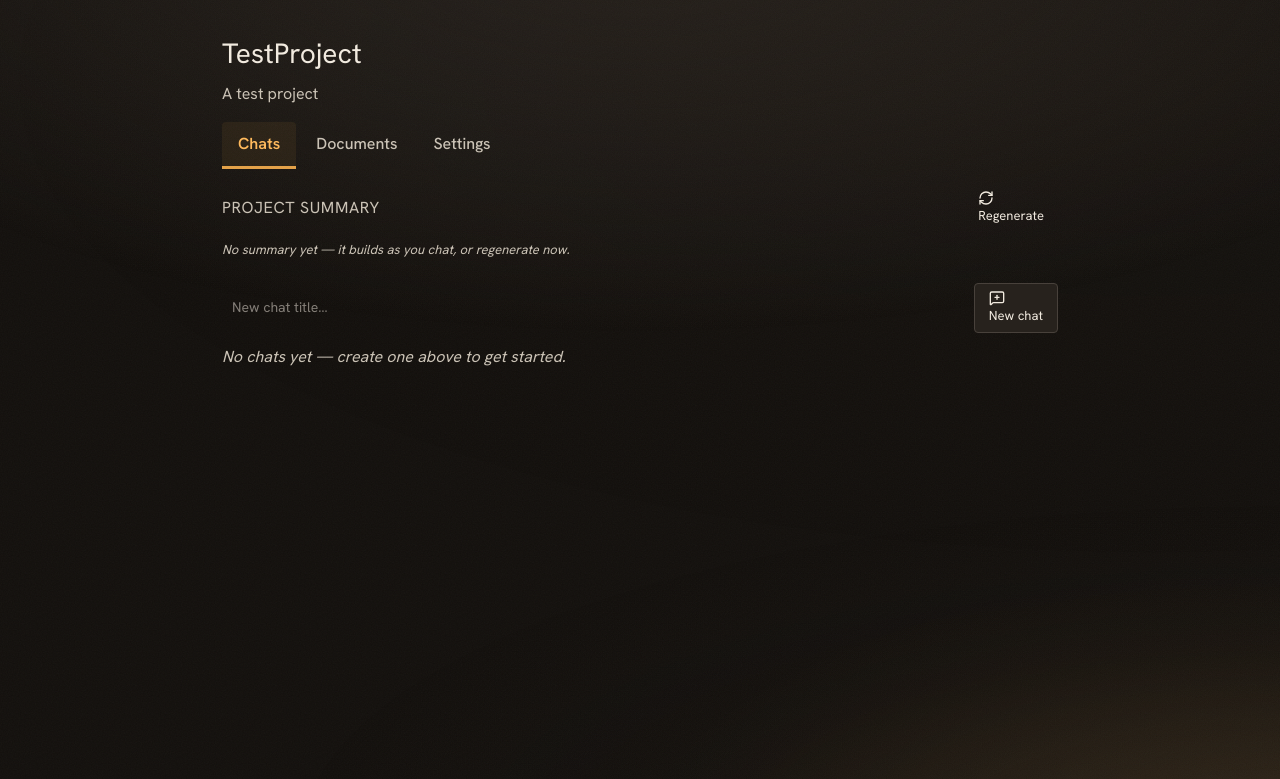
Scenario: Project page › selecting a preset copies its content into the instructions field
The width and height of the screenshot is (1280, 779).
Click the tab with test id "project-tab-settings" at point(462, 146), box x1=418 y1=122 x2=507 y2=169
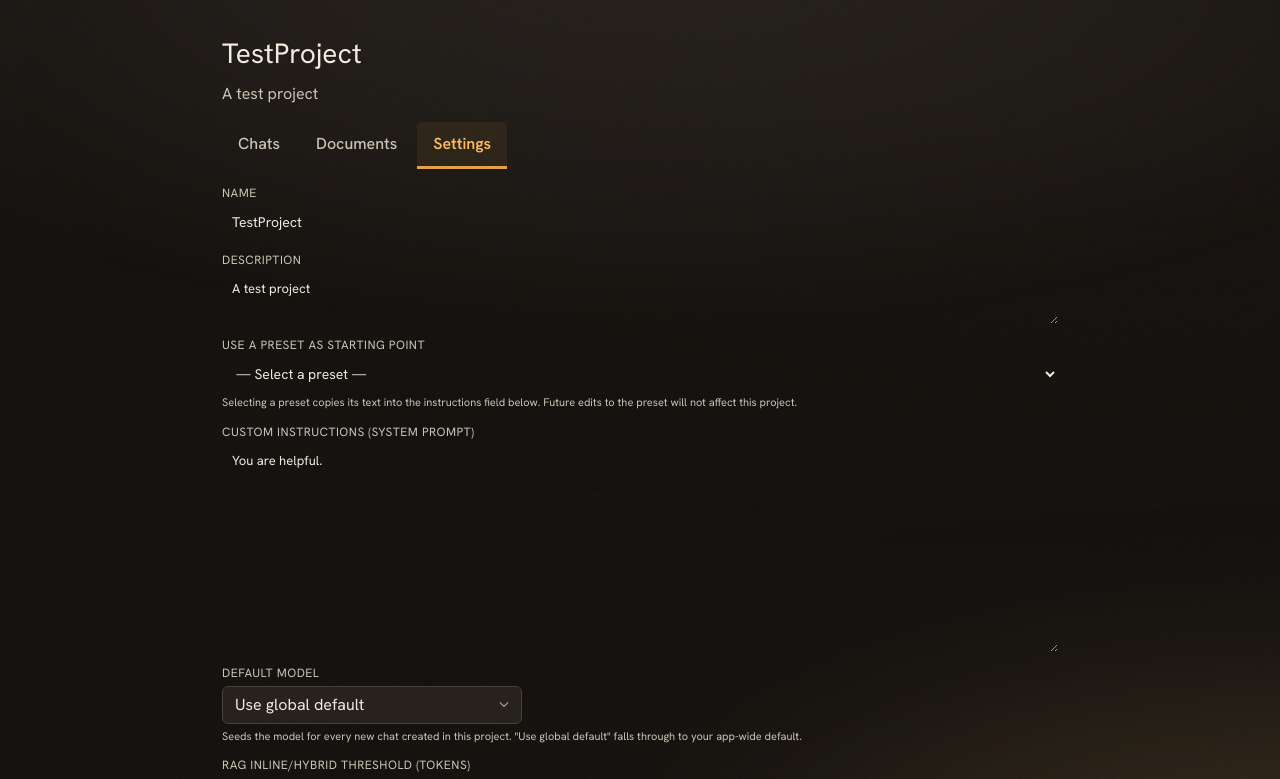
Expected: the dropdown with test id "project-settings-preset" is shown
Expected: the text box with test id "project-settings-prompt" holds "You are helpful.", x1=222 y1=444 x2=1058 y2=652
Select "TechWriter" in the dropdown with test id "project-settings-preset" at point(640, 374), box x1=222 y1=358 x2=1058 y2=390
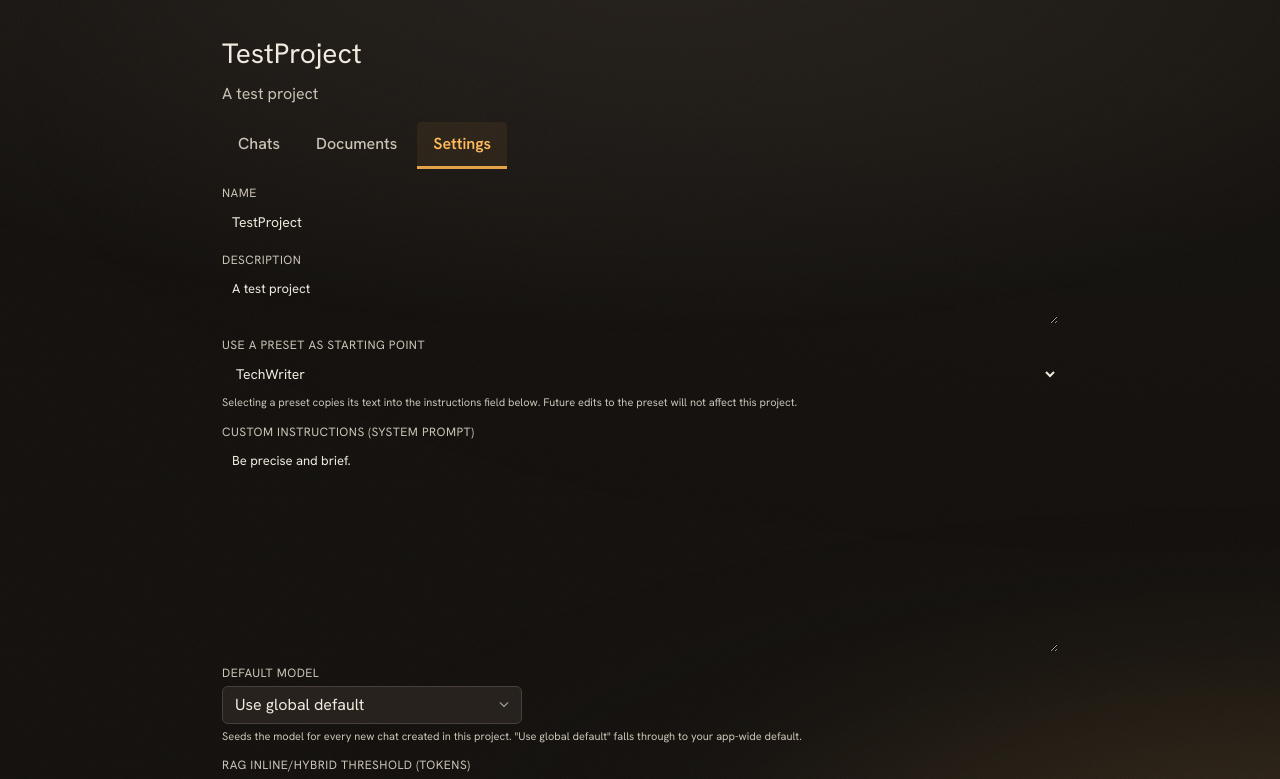
Expected: the text box with test id "project-settings-prompt" holds "Be precise and brief.", x1=222 y1=444 x2=1058 y2=652
